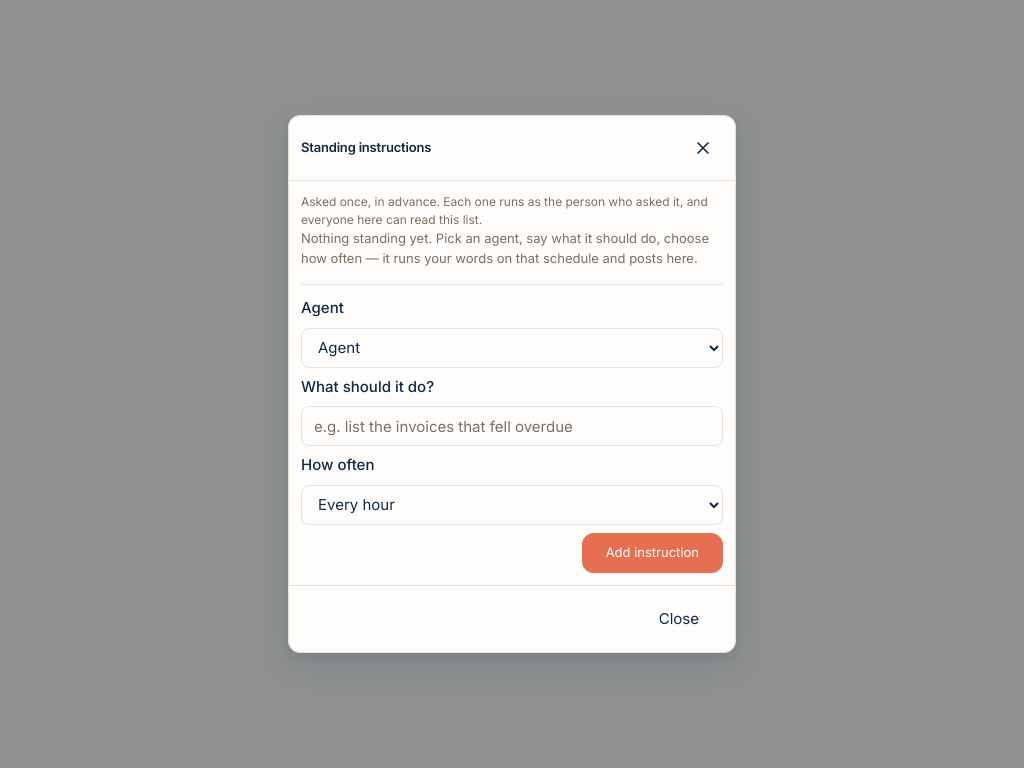
Test: the form stands a scheduled instruction up and the new card appears
Expected: the text "Nothing standing yet. Pick an agent, say what it should do, choose how often — it runs your words on that schedule and p" is shown, [301,230,709,266]
Step 1. Select "@billing" in the dropdown labelled "Agent" → point(512, 348), box [301,328,723,368]
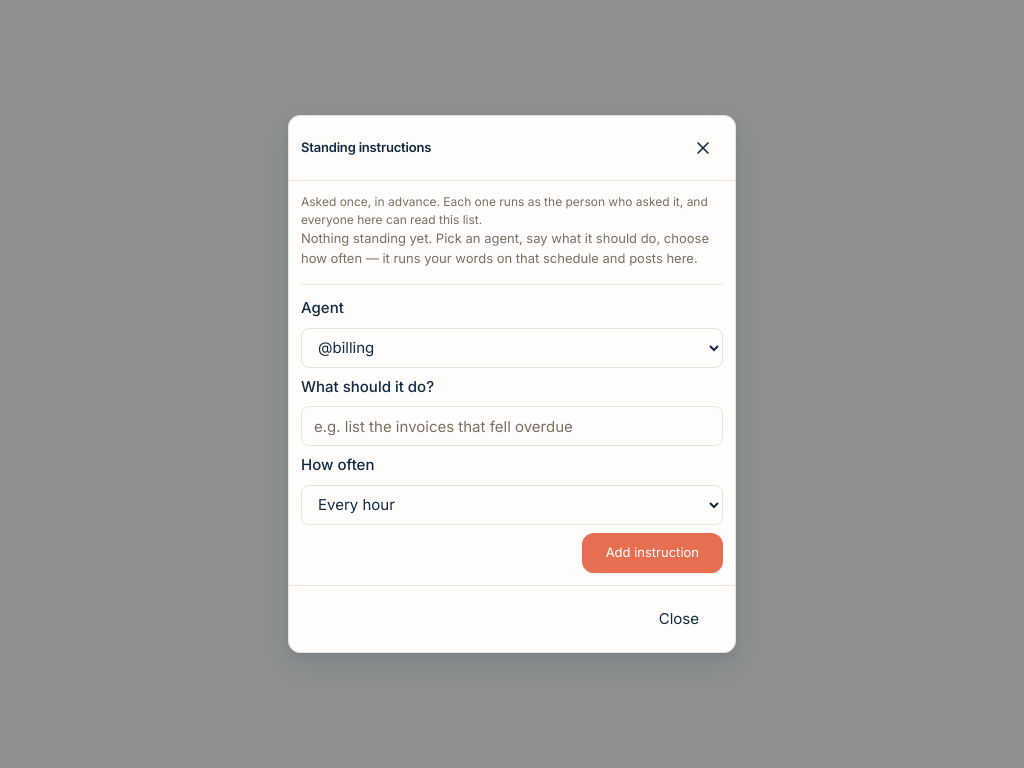
Step 2. Type "list the invoices that fell overdue" into the field labelled "What should it do?" → point(512, 426), box [301,406,723,446]
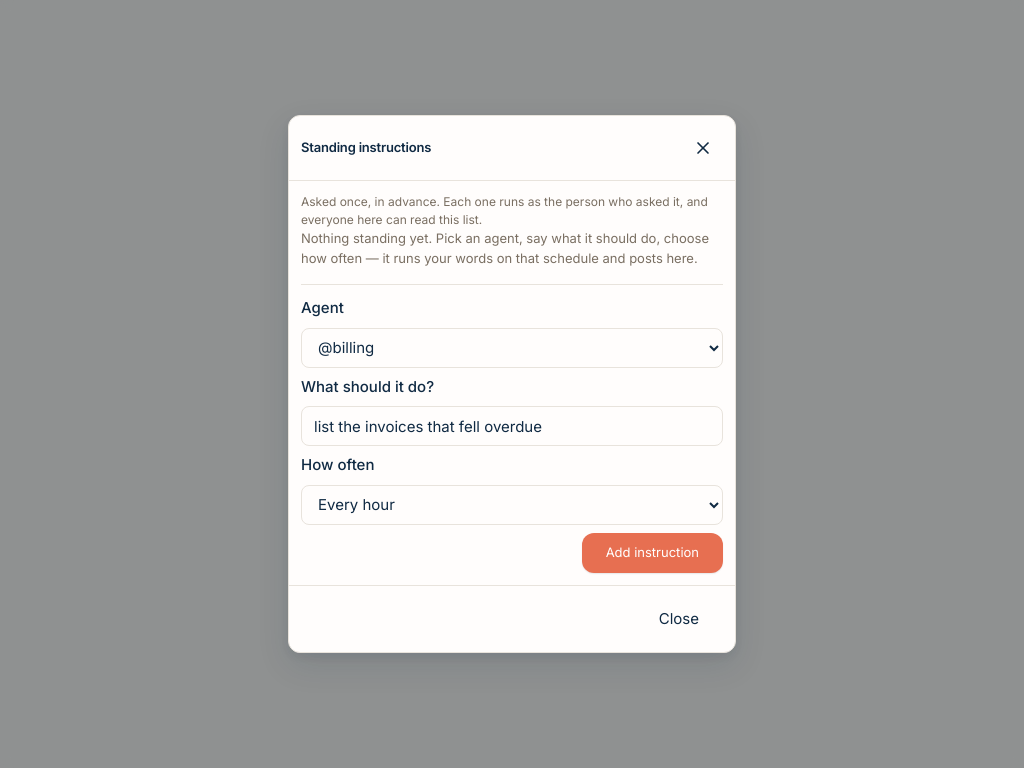
Step 3. Click the button "Add instruction" → point(652, 552), box [582,532,723,572]
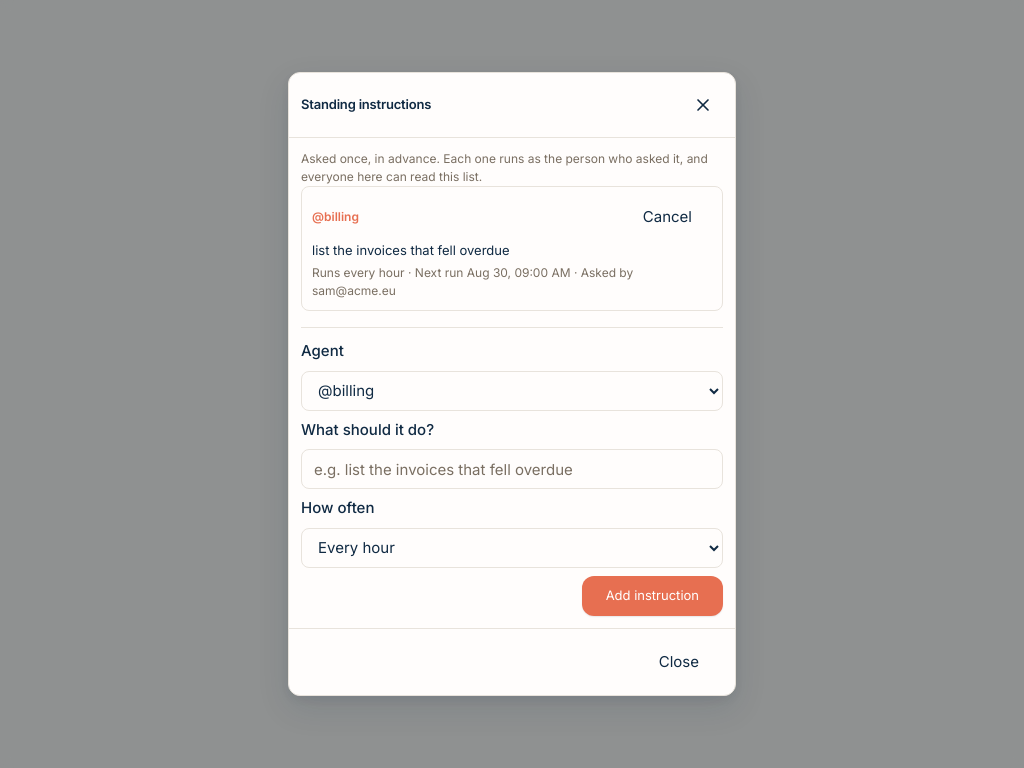
Expected: the text "list the invoices that fell overdue" is shown, [312,242,510,258]
